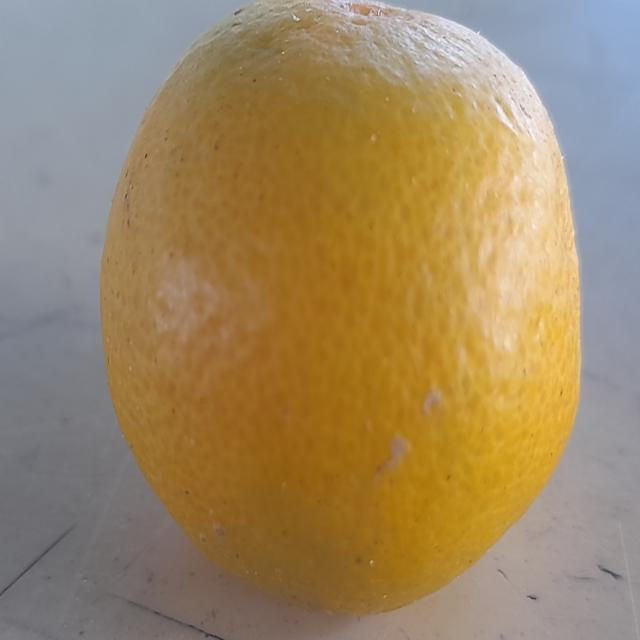greening: (87, 0, 593, 615)
